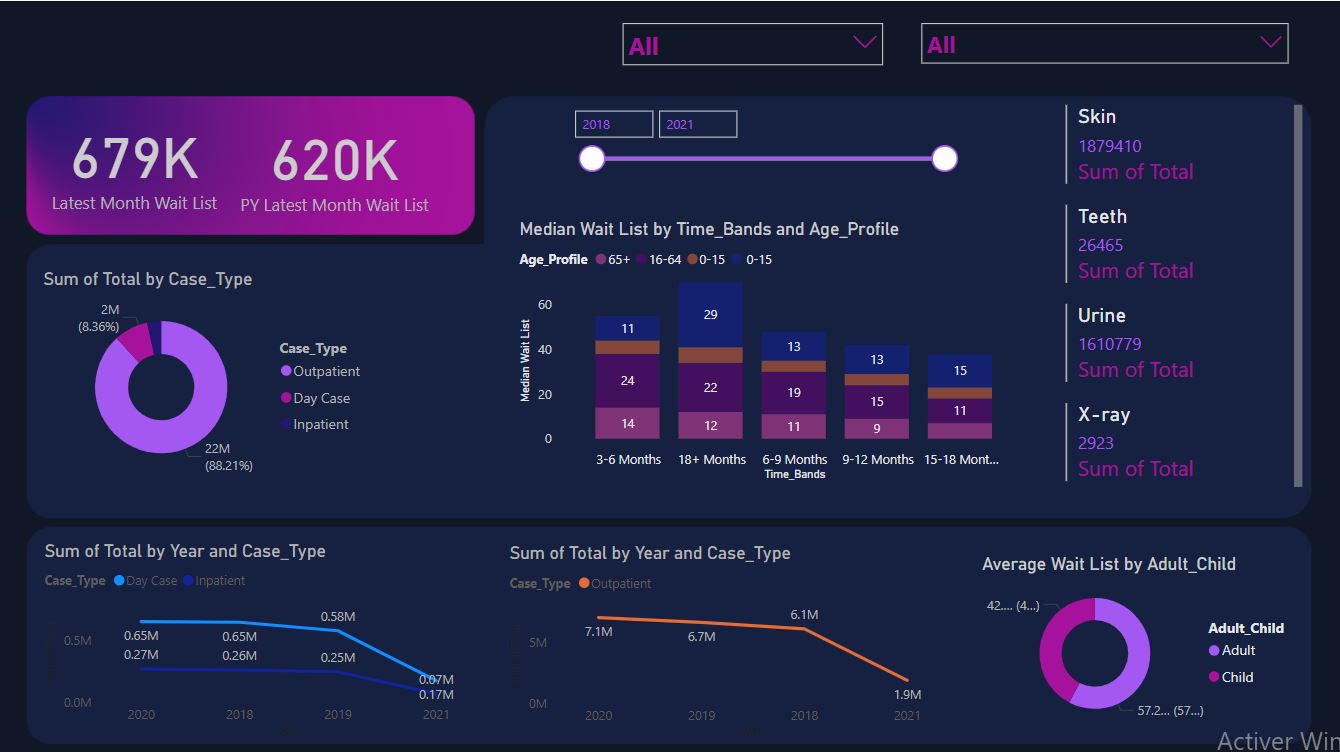

What the dashboard file says about the page in this screenshot:
{"tool":"powerbi","page":{"name":"Summary","canvas":[1280,720],"ordinal":1},"visuals":[{"type":"slicer","fields":{"Values":["all_data.Case_Type"]},"box":[868.5,10.5,369.9,74.9],"z":0},{"type":"card","fields":{"Values":["Table.Latest Month Wait List"]},"box":[38.4,102.9,183.9,102.9],"z":1000},{"type":"card","fields":{"Values":["Table.PY Latest Month Wait List"]},"box":[223.1,104.8,196.2,101.8],"z":2000},{"type":"donutChart","fields":{"Category":["all_data.Case_Type"],"Y":["Sum(all_data.Total)"]},"box":[38.4,255.2,321.1,207.2],"z":3000},{"type":"columnChart","fields":{"Category":["all_data.Time_Bands"],"Y":["Table.Median Wait List"],"Series":["all_data.Age_Profile"]},"box":[491.7,207.1,494.1,254.8],"z":4000},{"type":"multiRowCard","fields":{"Values":["Mapping_Specialty.Specialty Group","Sum(all_data.Total)"]},"box":[1012.4,93.9,235.3,385.5],"z":5000},{"type":"slicer","fields":{"Values":["Calculation Method.Calc  Method"]},"box":[584,10.5,268,64.4],"z":6000},{"type":"slicer","fields":{"Values":["all_data.Year"]},"box":[536.9,93.9,385.5,75.1],"z":7000},{"type":"lineChart","fields":{"Category":["all_data.Year"],"Series":["all_data.Case_Type"],"Y":["Sum(all_data.Total)"]},"box":[38.9,513.6,420.8,194.7],"z":8000},{"type":"donutChart","fields":{"Y":["Table.Average Wait List"],"Category":["all_data.Adult_Child"]},"box":[932.3,525.6,315.4,171.5],"z":9000},{"type":"lineChart","fields":{"Category":["all_data.Year"],"Series":["all_data.Case_Type"],"Y":["Sum(all_data.Total)"]},"box":[477.4,526.2,428.6,192.9],"z":10000}]}

Visuals, with their boxes on the page's 1280x720 design canvas (x1, y1, x2, y2). These are canvas units, not pixel positions in the 1340x752 screenshot, which may show the page scaled, cropped or inside an application window:
slicer - all_data.Case_Type: 868,10,1238,85
card - Table.Latest Month Wait List: 38,103,222,206
card - Table.PY Latest Month Wait List: 223,105,419,207
donutChart - all_data.Case_Type x Sum(all_data.Total): 38,255,360,462
columnChart - all_data.Time_Bands x Table.Median Wait List: 492,207,986,462
multiRowCard - Mapping_Specialty.Specialty Group x Sum(all_data.Total): 1012,94,1248,479
slicer - Calculation Method.Calc  Method: 584,10,852,75
slicer - all_data.Year: 537,94,922,169
lineChart - all_data.Year x all_data.Case_Type: 39,514,460,708
donutChart - Table.Average Wait List x all_data.Adult_Child: 932,526,1248,697
lineChart - all_data.Year x all_data.Case_Type: 477,526,906,719
